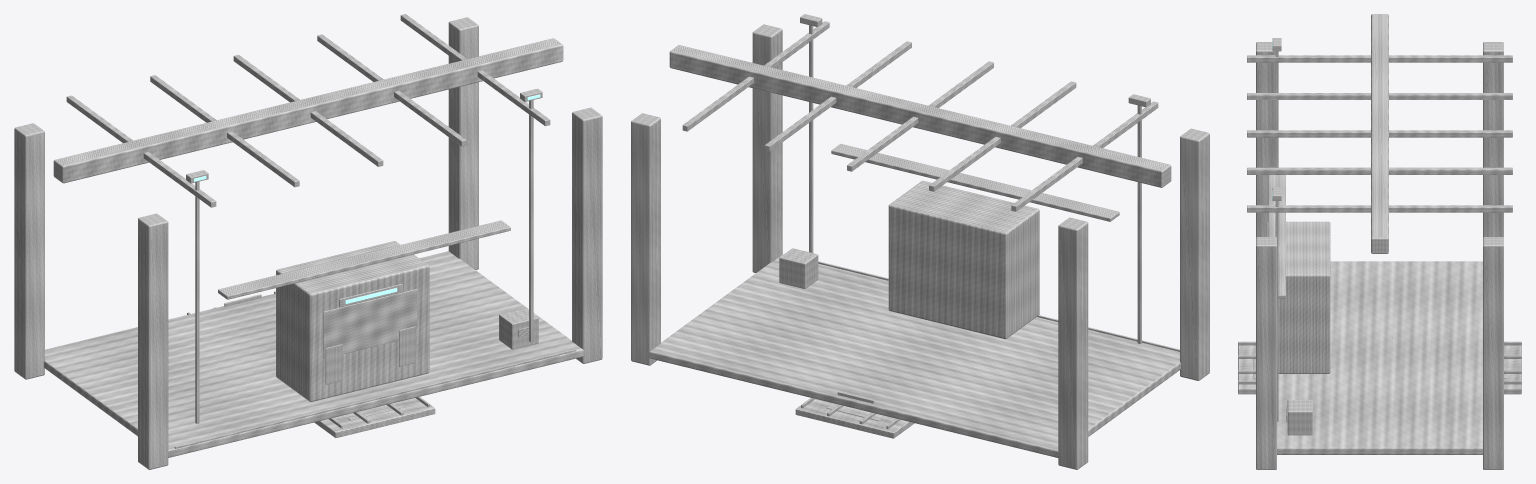
File: train_station_variant_b.glb
3 renders of one model, left to right at view 1: azimuth 30°, elevation 25°; view 2: azimuth 150°, elevation 25°; view 3: azimuth 270°, elevation 25°, orthographic. The views are drawn at different scales.
Parts seen in each view (by area): view 1: Raised service platform.001, Control module.002, Cantilever roof spine, Heavy support pier, Heavy support pier.001, Heavy support pier.002, Heavy support pier.003, Control room glazing.002, Platform service canopy.001, Track bed.001, Cantilever arm.003, Cantilever arm.002 (+9 smaller); view 2: Raised service platform.001, Control module.002, Cantilever roof spine, Heavy support pier.001, Heavy support pier, Heavy support pier.003, Heavy support pier.002, Platform service canopy.001, Track bed.001, Cantilever arm.004, Cantilever arm.002, Cantilever arm.003 (+5 smaller); view 3: Raised service platform.001, Control module.002, Heavy support pier.002, Heavy support pier.003, Cantilever roof spine, Heavy support pier.001, Heavy support pier, Cantilever arm.003, Cantilever arm.004, Cantilever arm.001, Cantilever arm, Cantilever arm.002 (+5 smaller).
Boxes of the visible parts, x1,y1,x2,y2 form: Raised service platform.001: (44,251,583,457); Control module.002: (276,241,429,401); Cantilever roof spine: (53,38,563,183); Heavy support pier: (138,213,168,469); Heavy support pier.001: (14,123,44,379); Heavy support pier.002: (572,107,602,363); Heavy support pier.003: (448,17,478,269); Control room glazing.002: (323,289,417,358); Platform service canopy.001: (218,220,510,299); Track bed.001: (314,398,435,437); Cantilever arm.003: (233,54,383,166); Cantilever arm.002: (150,75,299,187); Raised service platform.001: (649,254,1180,458); Control module.002: (888,180,1039,339); Cantilever roof spine: (669,45,1171,187); Heavy support pier.001: (1058,217,1088,469); Heavy support pier: (1180,128,1209,380); Heavy support pier.003: (631,113,660,365); Heavy support pier.002: (752,24,782,272); Platform service canopy.001: (831,144,1119,221); Track bed.001: (795,399,914,438); Cantilever arm.004: (764,41,911,151); Cantilever arm.002: (929,81,1076,191); Cantilever arm.003: (847,61,993,171); Raised service platform.001: (1277,261,1482,454); Control module.002: (1266,221,1330,373); Heavy support pier.002: (1256,237,1276,469); Heavy support pier.003: (1483,237,1503,469); Cantilever roof spine: (1371,14,1388,253); Heavy support pier.001: (1483,42,1503,237); Heavy support pier: (1256,42,1275,237); Cantilever arm.003: (1247,130,1512,137); Cantilever arm.004: (1247,167,1512,174); Cantilever arm.001: (1247,55,1512,62); Cantilever arm: (1247,205,1512,212); Cantilever arm.002: (1247,93,1512,99).
Size of what is drawn, in the model's own units: 30 by 15.9 by 16.
Materials: 7 (7 with a texture image).
